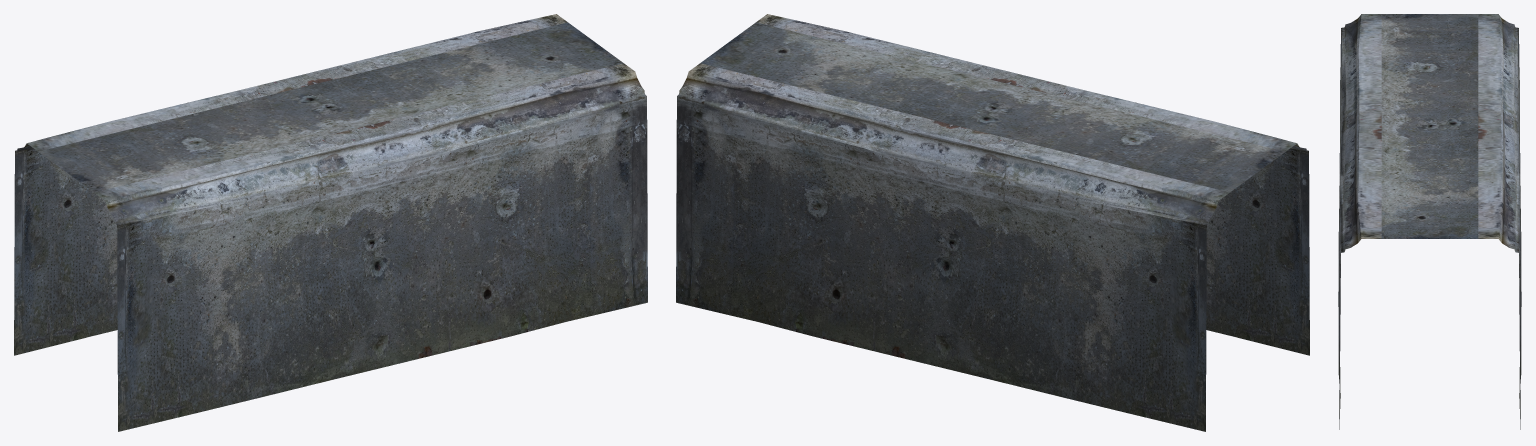
The model's file is SM_ChapelWall_05_02.fbx.
The picture shows the model from 3 angles, left to right: view 1: azimuth 30°, elevation 25°; view 2: azimuth 150°, elevation 25°; view 3: azimuth 270°, elevation 25°; orthographic projection. The views are drawn at different scales.
Parts seen in each view (by area): view 1: sm_ChapelWall_05_02_LOD0; view 2: sm_ChapelWall_05_02_LOD0; view 3: sm_ChapelWall_05_02_LOD0.
Boxes of the visible parts, x1,y1,x2,y2 form: sm_ChapelWall_05_02_LOD0: (14,14,647,431); sm_ChapelWall_05_02_LOD0: (676,14,1309,431); sm_ChapelWall_05_02_LOD0: (1338,14,1521,429).
Bounding box in the file's own units: 86.05 × 250 × 100.
